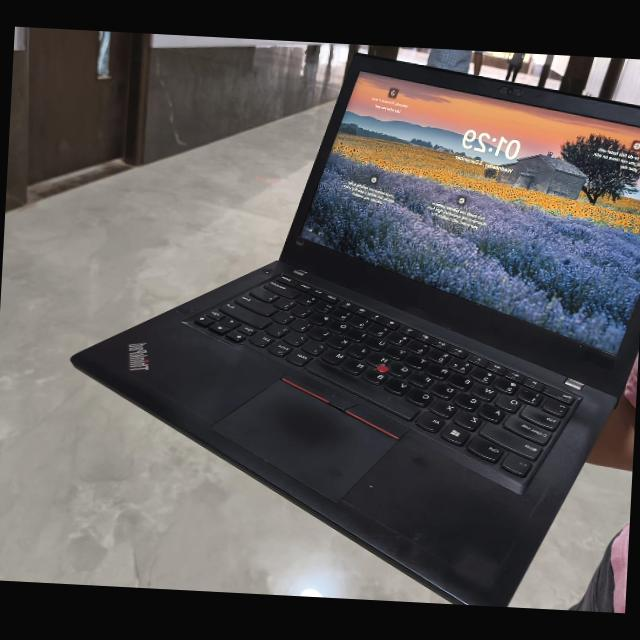laptop: (8, 47, 640, 614)
